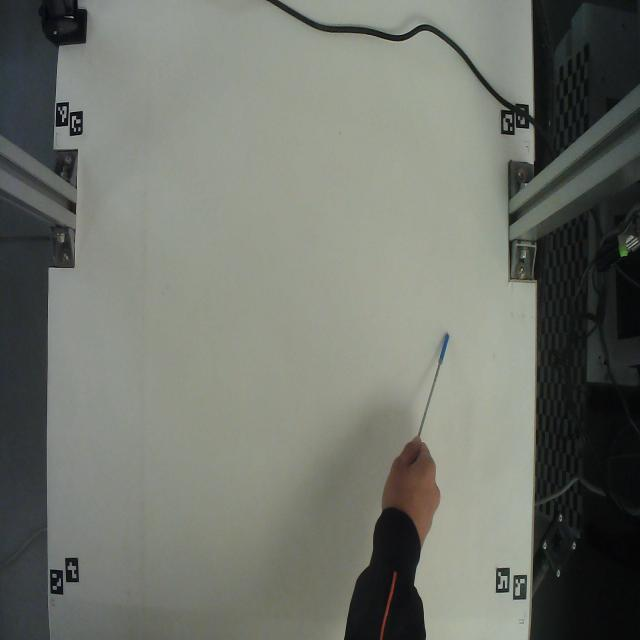Pres: (400, 314, 465, 457)
